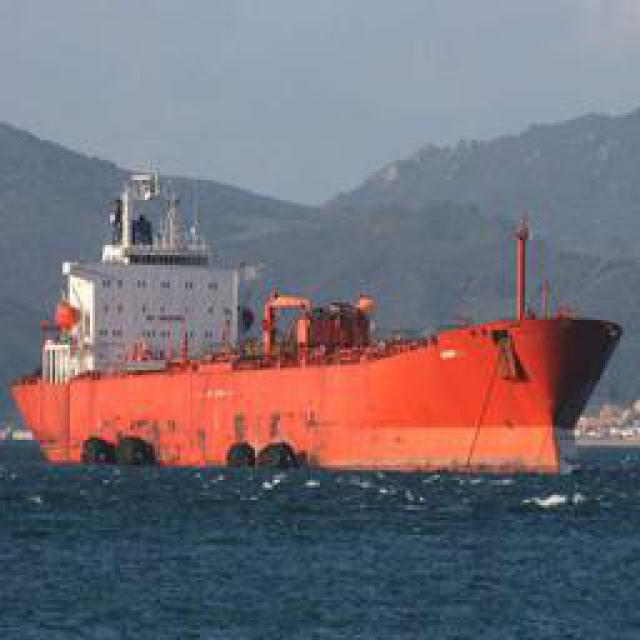Ship: (12, 197, 622, 475)
